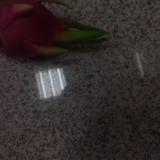pitaya: (1, 1, 108, 59)
